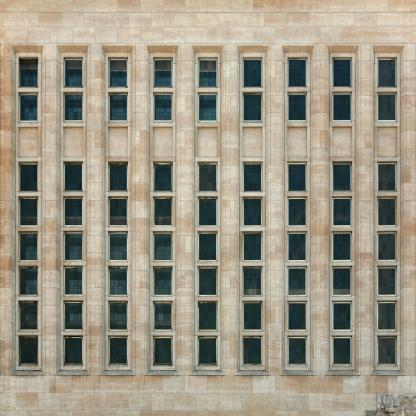Building Outline: (0, 0, 415, 415)
Deco: (365, 393, 416, 416)
Facade: (0, 0, 415, 415)
Floor: (1, 0, 415, 127), (1, 221, 415, 322), (1, 327, 415, 415), (1, 132, 415, 217)
Floor Slab: (1, 127, 415, 132), (1, 322, 415, 327), (1, 216, 415, 221)
Window: (372, 45, 404, 373), (11, 45, 43, 373), (56, 45, 88, 373), (101, 45, 133, 373), (146, 45, 178, 373), (192, 45, 223, 373), (237, 45, 268, 373), (282, 45, 313, 373), (327, 45, 358, 373), (377, 336, 397, 367), (377, 57, 397, 88), (377, 92, 397, 123), (377, 162, 397, 193), (377, 196, 397, 227), (377, 231, 397, 262), (377, 266, 397, 297), (377, 301, 397, 332), (19, 336, 39, 367), (19, 57, 39, 88), (19, 92, 39, 123), (19, 162, 39, 193), (19, 196, 39, 227), (19, 231, 39, 262), (19, 266, 39, 297), (19, 301, 39, 332), (64, 336, 84, 367), (64, 57, 84, 88), (64, 92, 84, 123), (64, 162, 84, 193), (64, 196, 84, 227), (64, 231, 84, 262), (64, 266, 84, 297), (64, 301, 84, 332), (108, 336, 128, 367), (108, 57, 128, 88), (108, 92, 128, 123), (108, 162, 128, 193), (108, 196, 128, 227), (108, 231, 128, 262), (108, 266, 128, 297), (108, 301, 128, 332), (153, 336, 173, 367), (153, 57, 173, 88), (153, 92, 173, 123), (153, 162, 173, 193), (153, 196, 173, 227), (153, 231, 173, 262), (153, 266, 173, 297), (153, 301, 173, 332), (198, 336, 218, 367), (198, 57, 218, 88), (198, 92, 218, 123), (198, 162, 218, 193), (198, 196, 218, 227), (198, 231, 218, 262), (198, 266, 218, 297), (198, 301, 218, 332), (243, 336, 263, 367), (243, 57, 263, 88), (243, 92, 263, 123), (243, 162, 263, 193), (243, 196, 263, 227), (243, 231, 263, 262), (243, 266, 263, 297), (243, 301, 263, 332), (288, 336, 308, 367), (288, 57, 308, 88), (288, 92, 308, 123), (288, 162, 308, 193), (288, 196, 308, 227), (288, 231, 308, 262), (288, 266, 308, 297), (288, 301, 308, 332), (333, 336, 353, 367), (333, 57, 353, 88), (333, 92, 353, 123), (333, 162, 353, 193), (333, 196, 353, 227), (333, 231, 353, 262), (333, 266, 353, 297), (333, 301, 353, 332)
